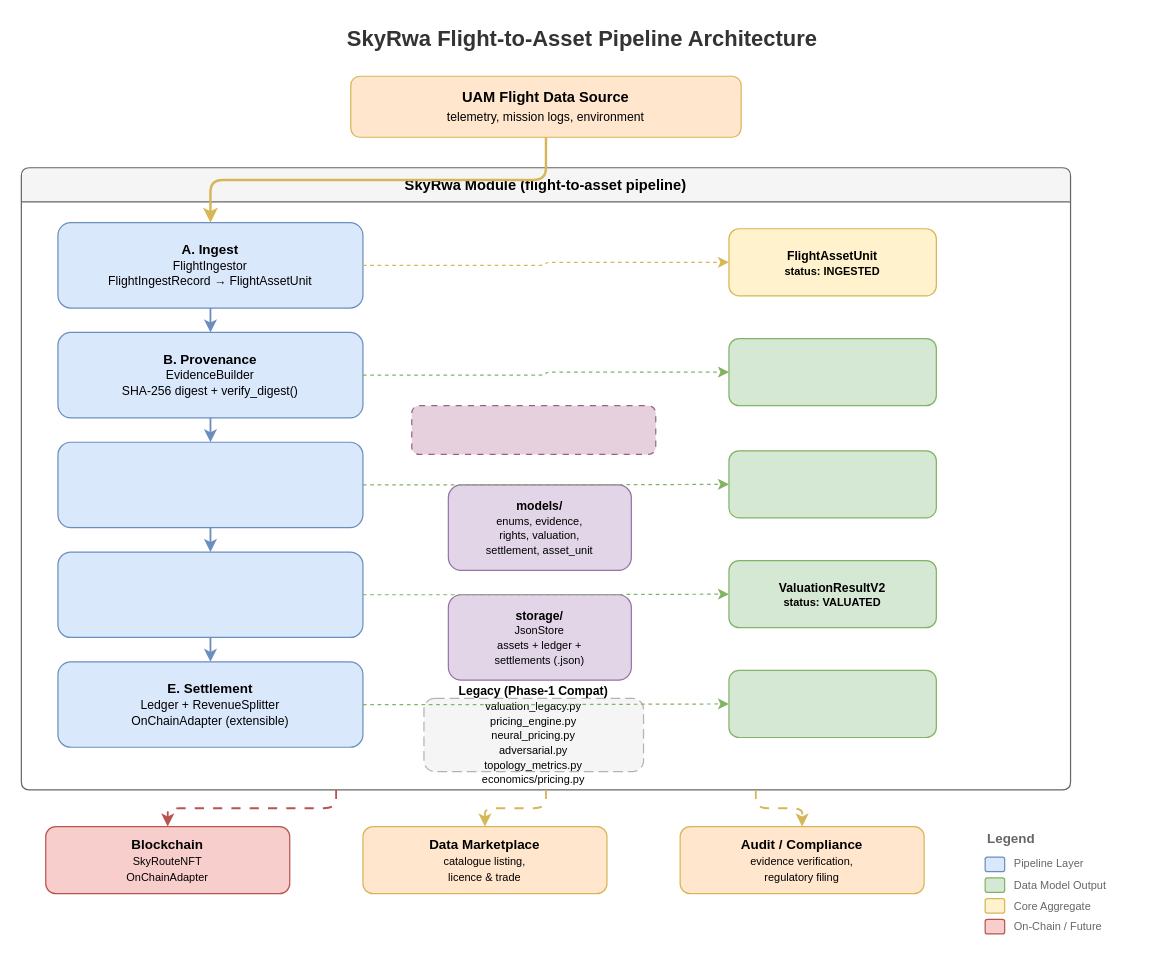
Image size: 1155x956. Some labels were removed from this diagram. The shapes that lost their labels are listed below. From the top down, each one's box as (x1, y1, x2, y2) in pixels, then its label:
(728, 337, 936, 406): FlightEvidencePackage status: EVIDENCE_BUILT
(411, 404, 656, 454): FlightToAssetPipeline orchestrates steps 1-5
(57, 441, 363, 528): C. Governance GovernanceEngine rights, compliance, data classification
(728, 450, 936, 518): RightsProfile status: GOVERNED
(57, 551, 363, 637): D. Valuation RuleBasedValuationEngine NeuralValuationAdapter
(728, 669, 936, 737): SettlementRecord status: SETTLED
